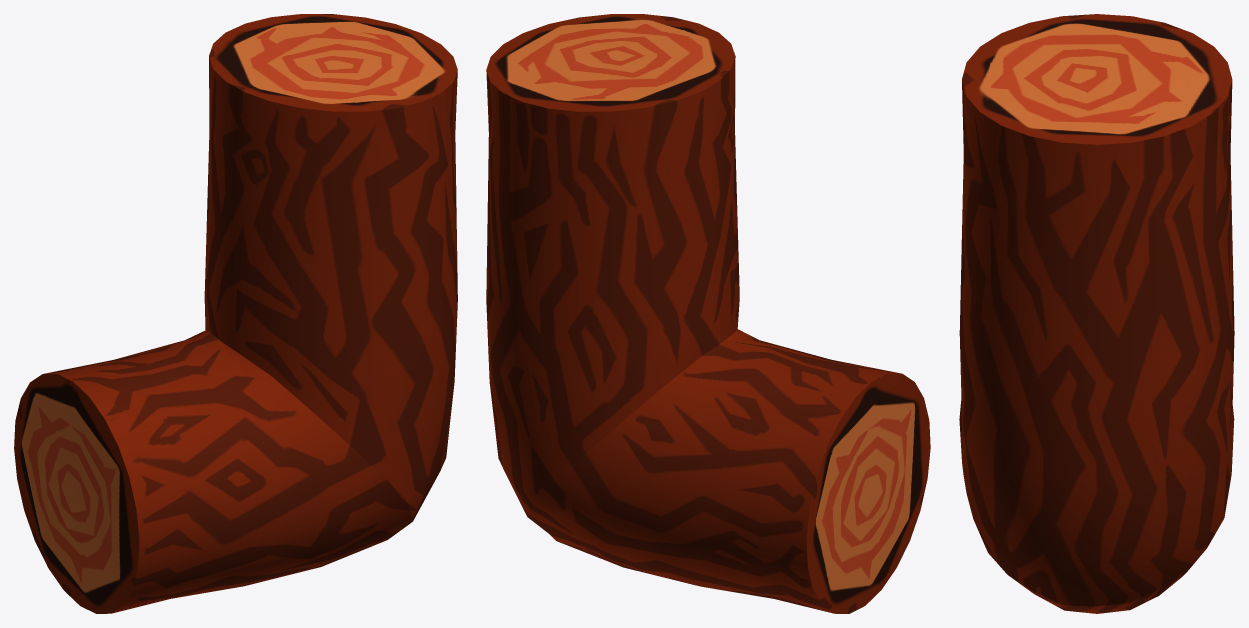
File: Log3.fbx
3 renders of one model, left to right at view 1: azimuth 30°, elevation 25°; view 2: azimuth 150°, elevation 25°; view 3: azimuth 270°, elevation 25°, orthographic. The views are drawn at different scales.
Visible parts, largest first — view 1: Cylinder.002, Cylinder.001; view 2: Cylinder.002, Cylinder.001; view 3: Cylinder.002, Cylinder.001.
Part boxes in pixels (x1,y1,x2,y2): Cylinder.002: [204, 14, 457, 520]; Cylinder.001: [14, 330, 412, 613]; Cylinder.002: [486, 14, 739, 516]; Cylinder.001: [527, 329, 930, 613]; Cylinder.002: [959, 14, 1234, 606]; Cylinder.001: [959, 400, 1234, 613].
Bounding box in the file's own units: 327 × 419 × 195.
Materials: 1 (1 with a texture image).
